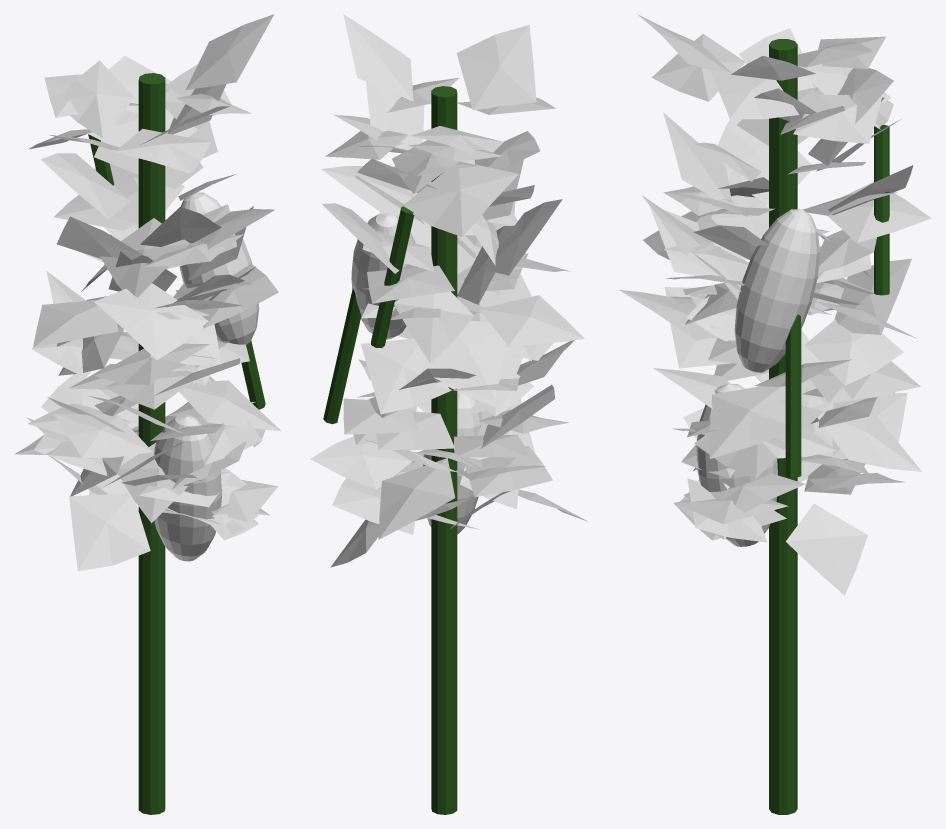
File: high_poly_pimiento_plant.fbx
3 views of the same model, side by side, from view 1: azimuth 30°, elevation 25°; view 2: azimuth 150°, elevation 25°; view 3: azimuth 270°, elevation 25° (orthographic). The views are drawn at different scales.
Visible parts, largest first — view 1: Pimiento_R01 P01; view 2: Pimiento_R01 P01; view 3: Pimiento_R01 P01.
Boxes of the visible parts, x1=… form: Pimiento_R01 P01: x1=14, y1=14, x2=281, y2=814; Pimiento_R01 P01: x1=310, y1=14, x2=588, y2=814; Pimiento_R01 P01: x1=619, y1=14, x2=931, y2=814.
Size of the model in its own units: 0.6796 by 2.03 by 0.7091.
